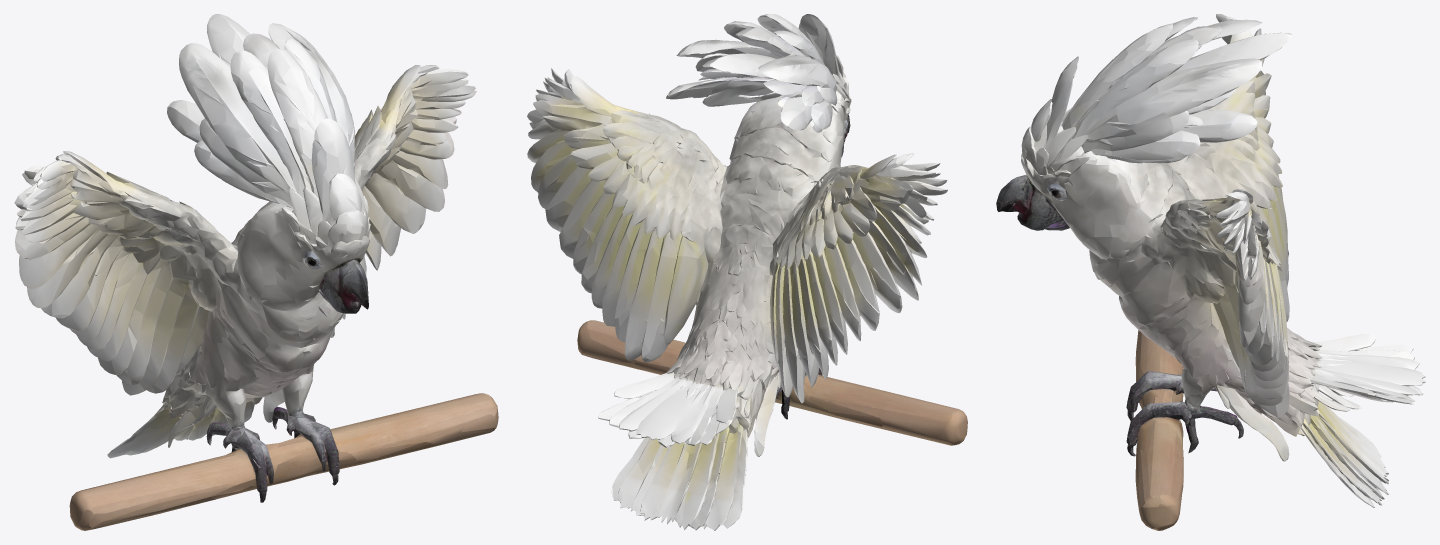
File: kakadu_angry.glb
3 views of the same model, side by side, from view 1: azimuth 30°, elevation 25°; view 2: azimuth 150°, elevation 25°; view 3: azimuth 270°, elevation 25° (orthographic). The views are drawn at different scales.
Size of the model in its own units: 1.88 by 1.9 by 1.6.
Materials: 1 (1 with a texture image).
